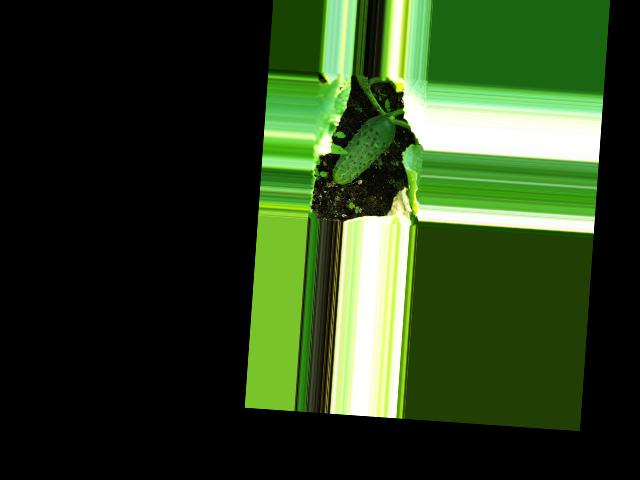cucumber: (331, 111, 397, 188)
